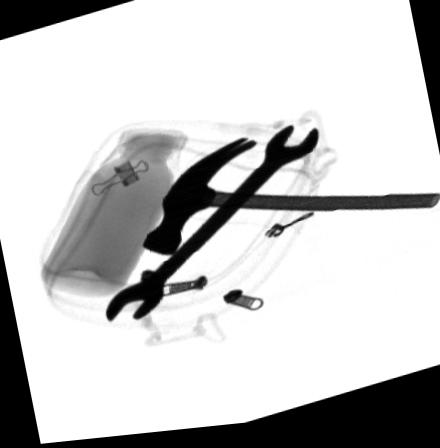Hammer: (140, 141, 440, 258)
Wrench: (101, 128, 317, 324)
